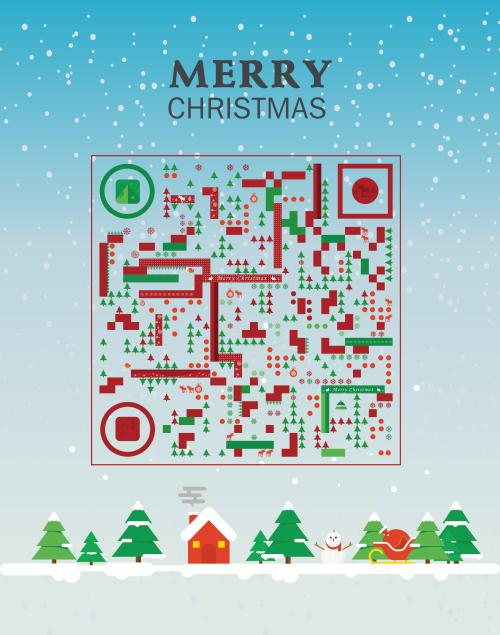QRCode: (94, 156, 402, 463)
